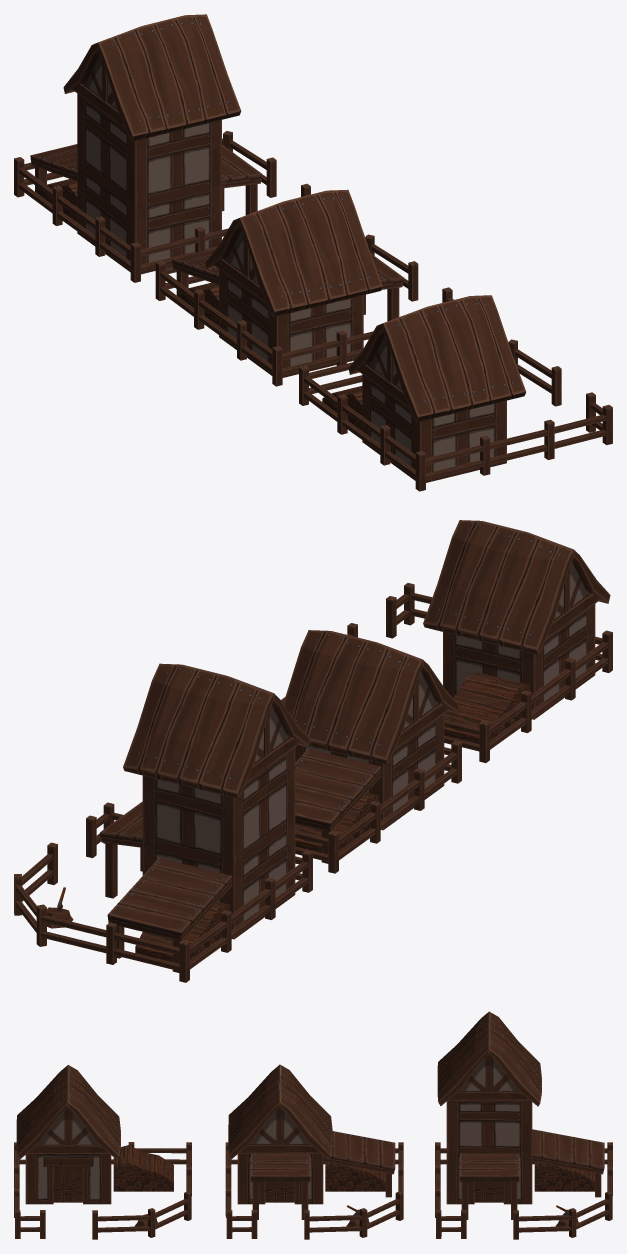
Rendered from Logger_39_s_Hut_low_poly.glb.
3 renders of one model, top to bottom at view 1: azimuth 30°, elevation 25°; view 2: azimuth 150°, elevation 25°; view 3: azimuth 270°, elevation 25°, orthographic. The views are drawn at different scales.
Visible parts, largest first — view 1: Cylinder.005_Material_0, Cylinder.004_Material_0, Cylinder.007_Material_0, Cube.006_Material.003_0, Cube.009_Material.003_0, Cube.005_Material.003_0; view 2: Cylinder.005_Material_0, Cube.006_Material.003_0, Cube.009_Material.003_0, Cube.005_Material.003_0, Cylinder.004_Material_0, Cylinder.007_Material_0; view 3: Cylinder.005_Material_0, Cylinder.007_Material_0, Cylinder.004_Material_0, Cube.005_Material.003_0, Cube.009_Material.003_0, Cube.006_Material.003_0, Cube.007_Material.008_0, Cube.004_Material.008_0, Cube.008_Material.008_0.
Part boxes in pixels (<box>): Cylinder.005_Material_0: <box>14,93,310,282</box>; Cylinder.004_Material_0: <box>299,339,612,491</box>; Cylinder.007_Material_0: <box>155,234,453,386</box>; Cube.006_Material.003_0: <box>348,295,526,422</box>; Cube.009_Material.003_0: <box>63,14,241,141</box>; Cube.005_Material.003_0: <box>205,189,382,317</box>; Cylinder.005_Material_0: <box>14,747,312,982</box>; Cube.006_Material.003_0: <box>423,520,610,655</box>; Cube.009_Material.003_0: <box>123,663,310,798</box>; Cube.005_Material.003_0: <box>283,630,459,765</box>; Cylinder.004_Material_0: <box>347,583,612,762</box>; Cylinder.007_Material_0: <box>281,697,461,873</box>; Cylinder.005_Material_0: <box>435,1100,612,1239</box>; Cylinder.007_Material_0: <box>225,1131,403,1239</box>; Cylinder.004_Material_0: <box>14,1142,191,1239</box>; Cube.005_Material.003_0: <box>228,1064,332,1159</box>; Cube.009_Material.003_0: <box>437,1011,541,1106</box>; Cube.006_Material.003_0: <box>16,1065,120,1159</box>; Cube.007_Material.008_0: <box>53,1166,82,1202</box>; Cube.004_Material.008_0: <box>265,1182,294,1202</box>; Cube.008_Material.008_0: <box>474,1182,503,1202</box>.
Size of the model in its own units: 503 by 541 by 1801.
4 materials, 4 textured.
